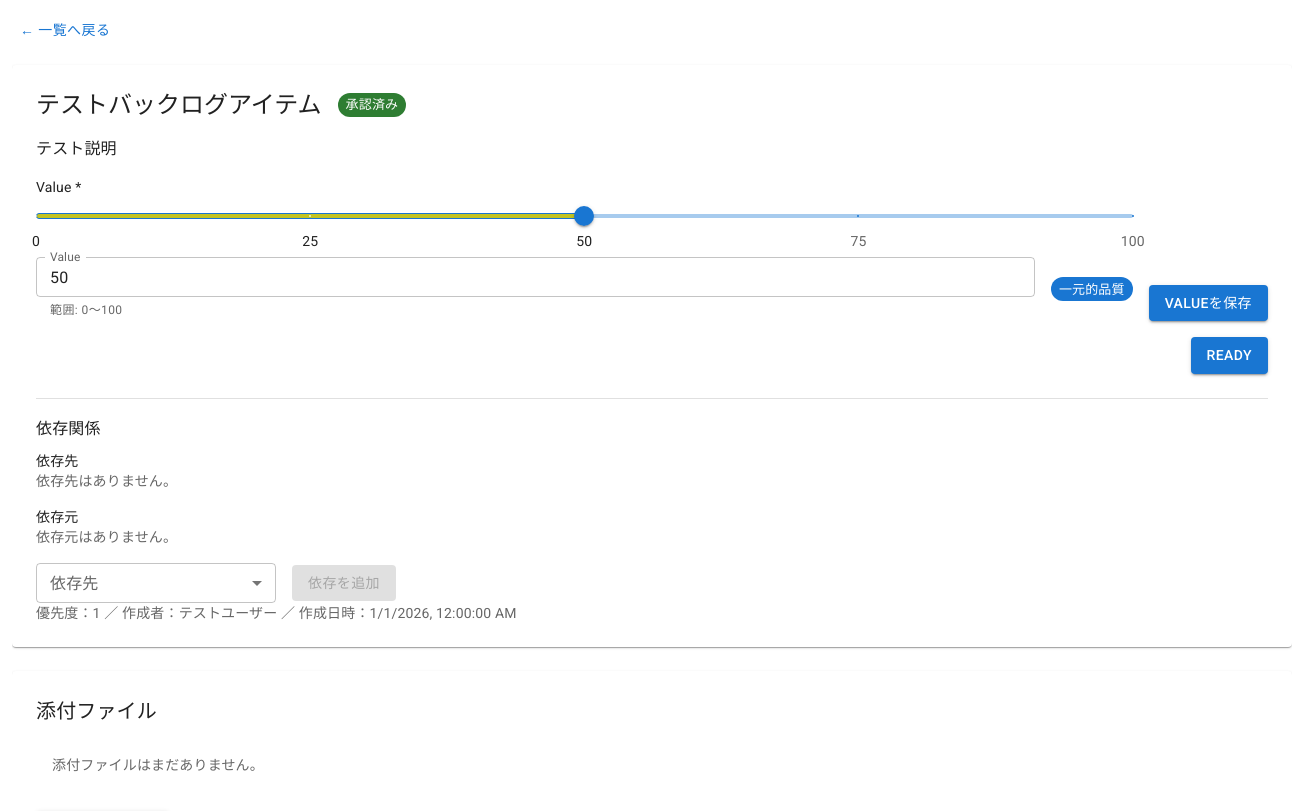
Scenario: BacklogItemDetail › Readyボタン（#714） › APIエラーが返されたとき、エラーメッセージが表示される
Expected: the heading "テストバックログアイテム" is shown, [36,88,322,120]
Click the button "Ready": (1229, 356) [1191,337,1268,374]
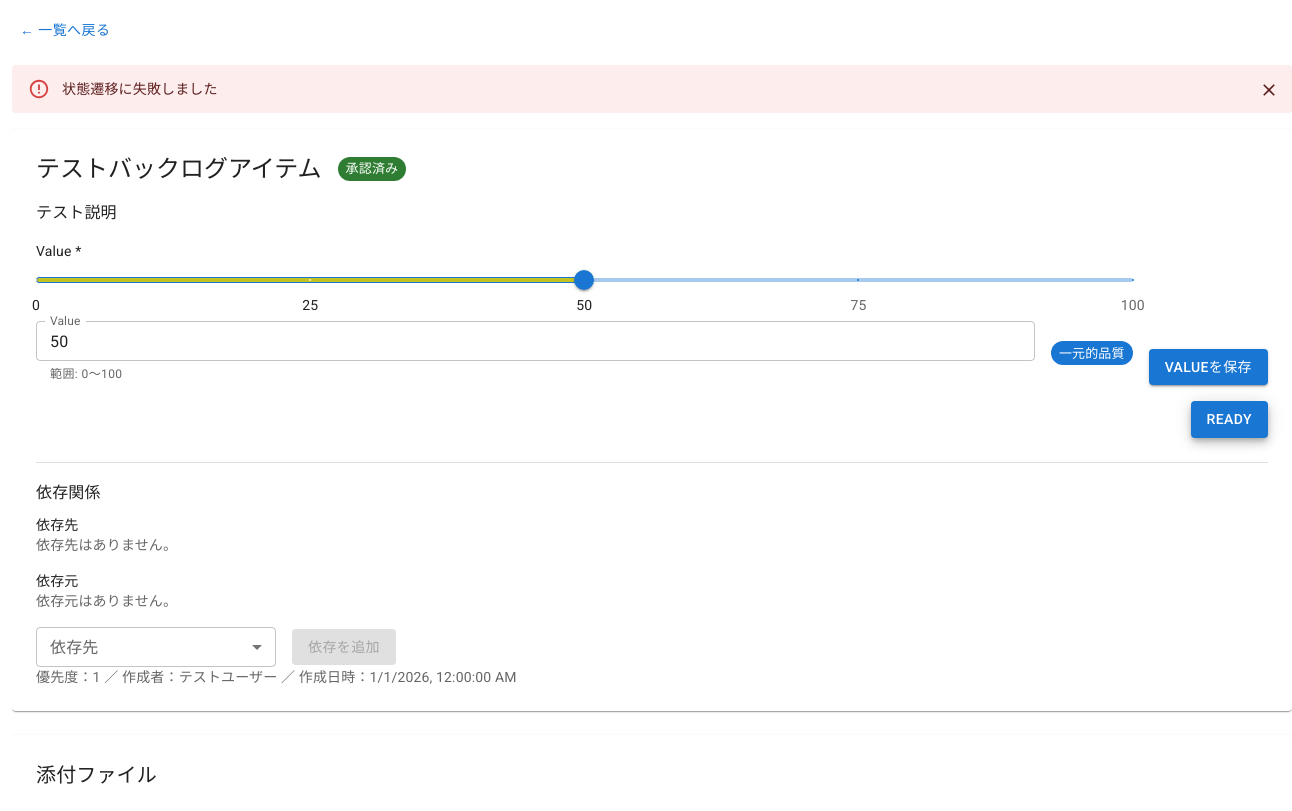
Expected: the text "状態遷移に失敗しました" is shown, [62,80,218,96]
